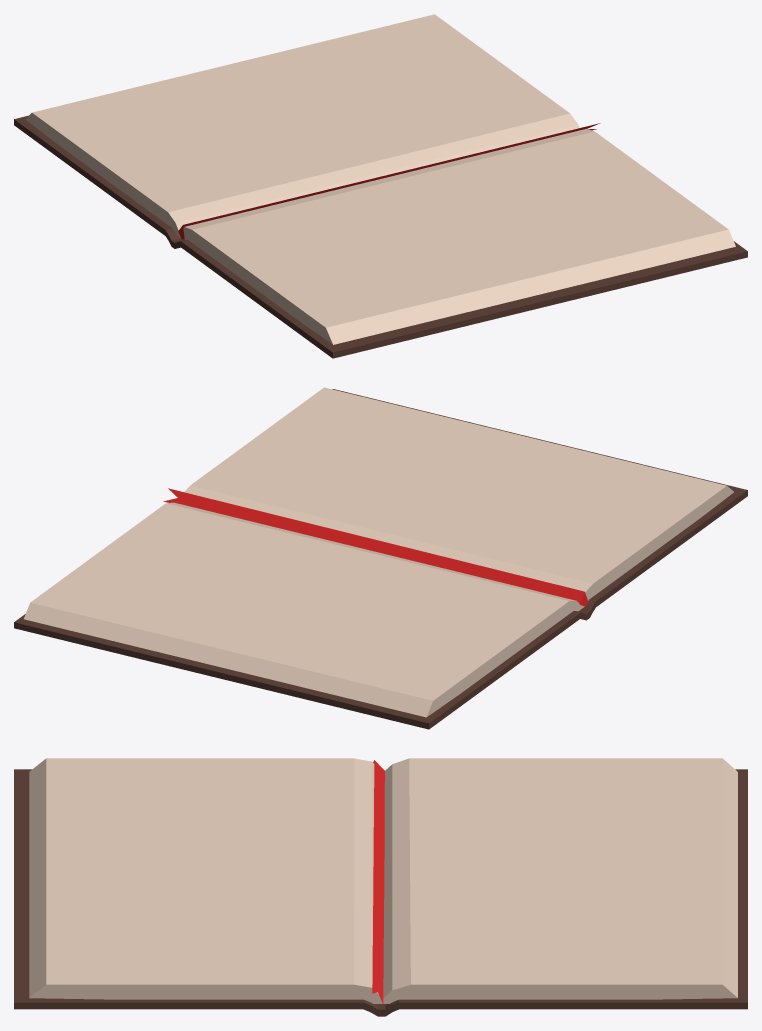
The model's file is book.gltf.
The picture shows the model from 3 angles, top to bottom: view 1: azimuth 30°, elevation 25°; view 2: azimuth 150°, elevation 25°; view 3: azimuth 270°, elevation 25°; orthographic projection. The views are drawn at different scales.
Parts seen in each view (by area): view 1: Cube, Plane, Plane.001; view 2: Cube, Plane, Plane.001; view 3: Cube, Plane, Plane.001.
Part boxes in pixels (x1,y1,x2,y2): Cube: (25,14,735,344); Plane: (14,115,747,358); Plane.001: (178,123,600,239); Cube: (24,387,733,717); Plane: (14,389,747,729); Plane.001: (163,488,588,606); Cube: (29,758,737,1003); Plane: (14,769,747,1016); Plane.001: (372,760,384,1004).
Size of the model in its own units: 1.68 by 0.0955 by 2.19.
